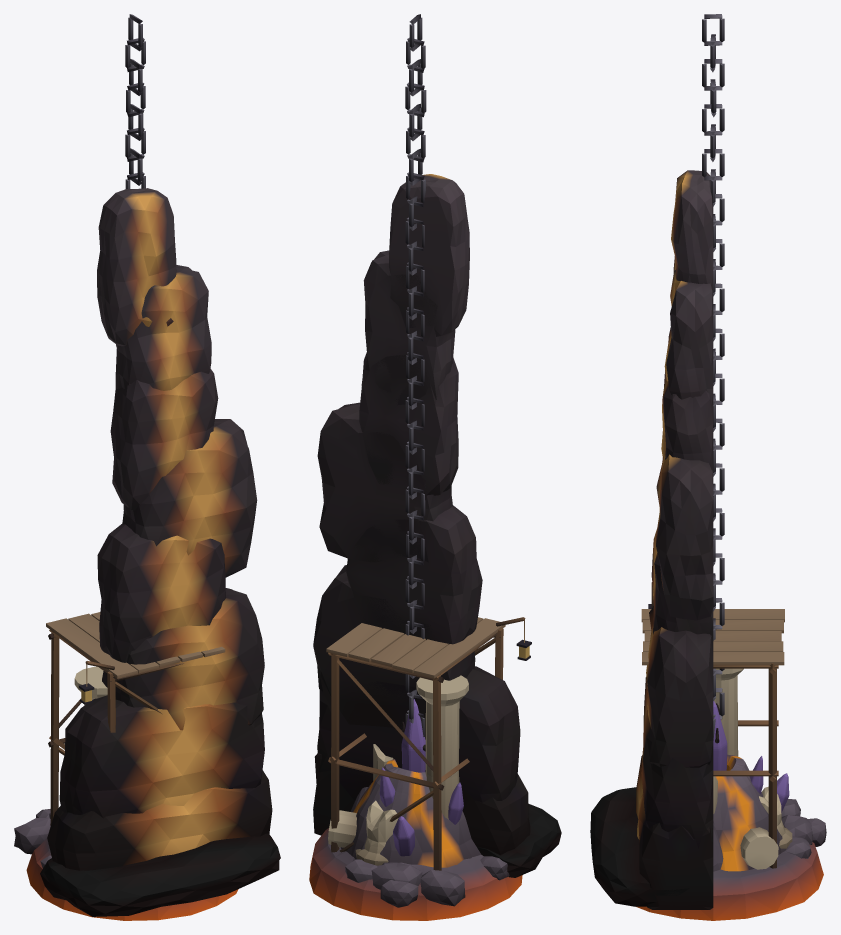
File: volcano-s6-CZPEEPbb.glb
3 renders of one model, left to right at view 1: azimuth 30°, elevation 25°; view 2: azimuth 150°, elevation 25°; view 3: azimuth 270°, elevation 25°, orthographic.
Parts seen in each view (by area): view 1: sc_flow_1, sc_scaffold_0, sc_z1_0, sc_chain_1; view 2: sc_flow_1, sc_z1_0, sc_scaffold_0, sc_chain_1, sc_z3_1, sc_z1_2, sc_z3_2; view 3: sc_flow_1, sc_z1_0, sc_scaffold_0, sc_chain_1, sc_z3_1, sc_z1_2, sc_z3_2.
Boxes of the visible parts, x1,y1,x2,y2 form: sc_flow_1: (40, 188, 280, 916); sc_scaffold_0: (46, 612, 225, 825); sc_z1_0: (14, 666, 238, 920); sc_chain_1: (125, 14, 145, 188); sc_flow_1: (313, 174, 561, 877); sc_z1_0: (309, 675, 522, 920); sc_scaffold_0: (326, 617, 531, 870); sc_chain_1: (405, 14, 426, 736); sc_z3_1: (340, 759, 480, 867); sc_z1_2: (371, 699, 463, 889); sc_z3_2: (345, 722, 509, 882); sc_flow_1: (590, 170, 713, 909); sc_z1_0: (636, 668, 826, 920); sc_scaffold_0: (641, 582, 784, 868); sc_chain_1: (702, 14, 724, 740); sc_z3_1: (713, 754, 787, 871); sc_z1_2: (713, 701, 812, 844); sc_z3_2: (713, 703, 811, 871).
Bounding box in the file's own units: 12 × 47.92 × 11.91.
